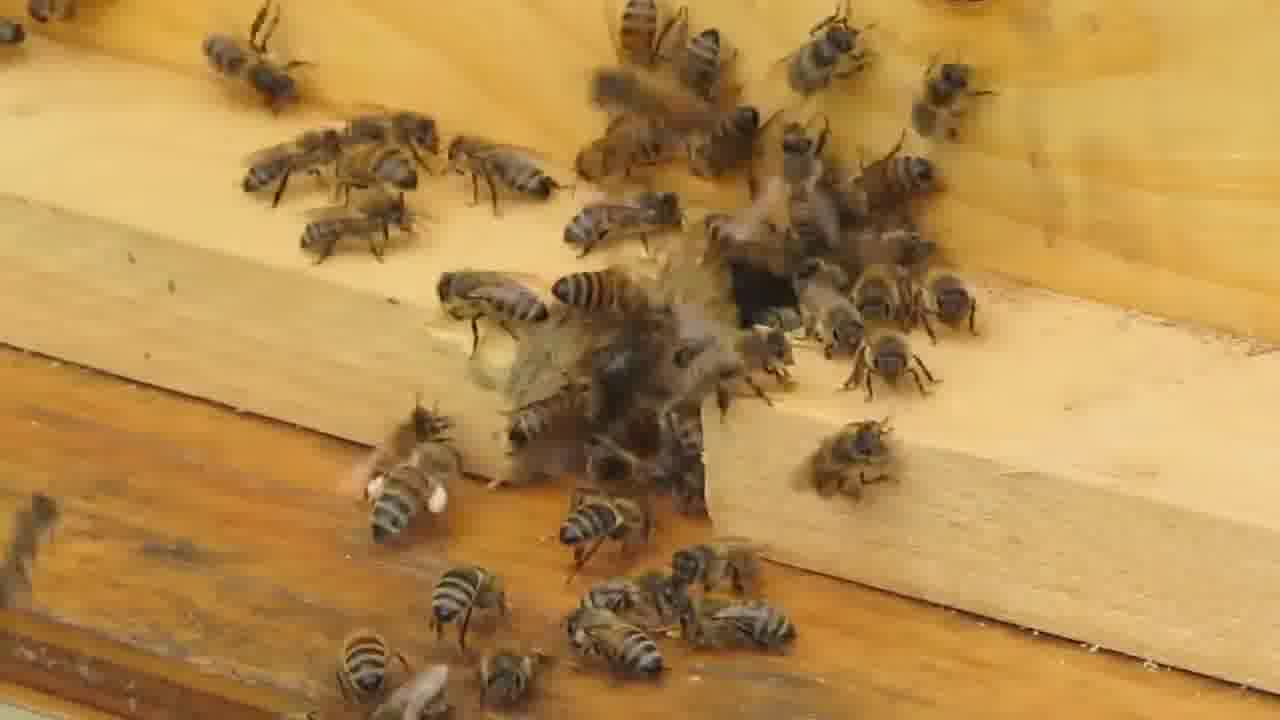pollen: (370, 439, 464, 546)
